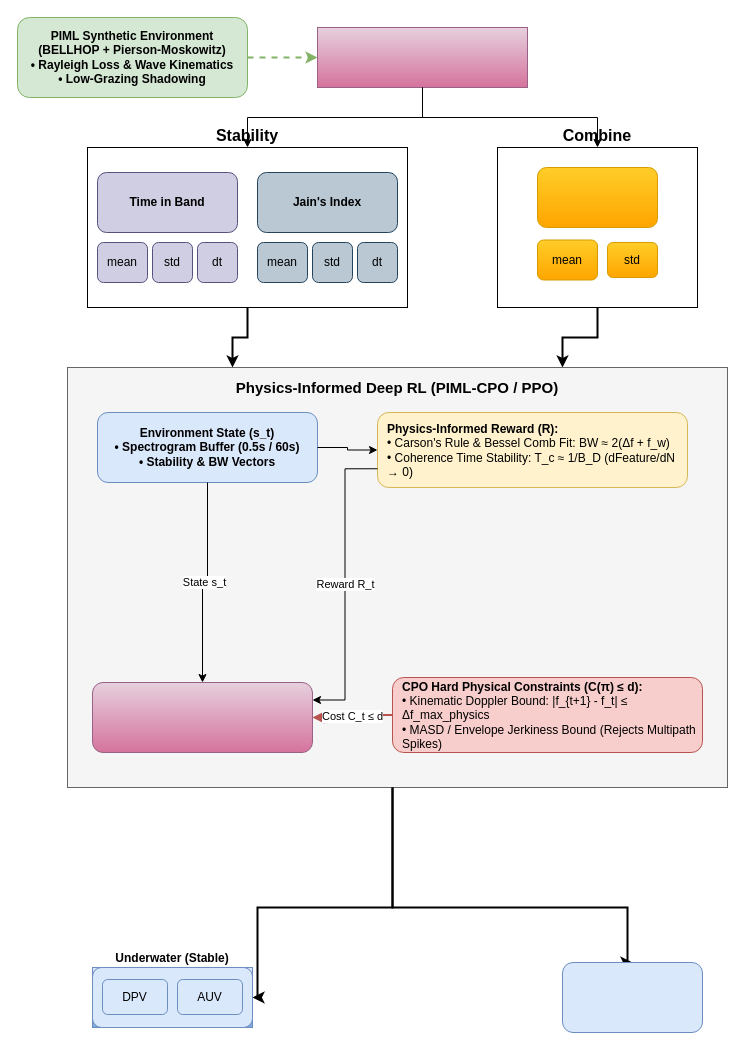
The diagram is 745 pixels wide and 1050 high, and some of its shapes have lost their labels. Here are the shapes that lost their labels. From the top down, the centre of each, then its label:
(x=422, y=57): BANDWIDTH PARAMETER MATRIX (Time-Frequency Buffers)
(x=597, y=197): Combine (BW)
(x=202, y=717): CPO / PPO Agent (Policy π_θ) Action a_t: Track Center Freq (f_c) & BW
(x=632, y=997): Surface (High Smearing / Chaotic)
